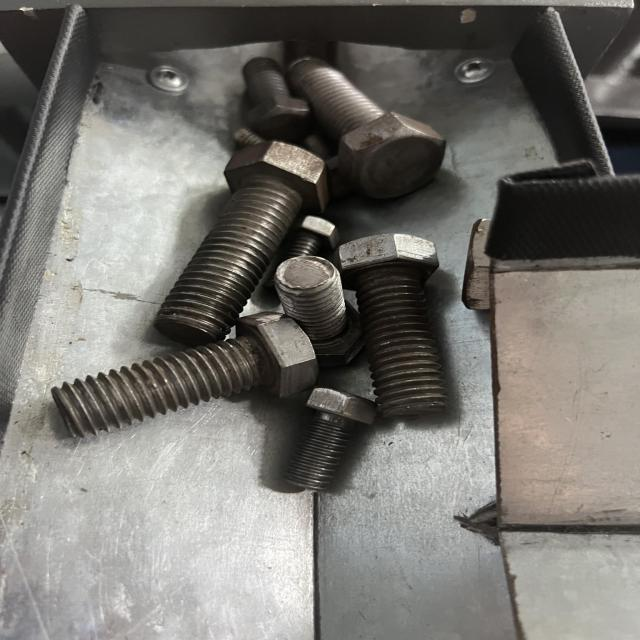bolt: (155, 140, 327, 337), (54, 312, 316, 439), (339, 237, 458, 413), (292, 387, 376, 491)
